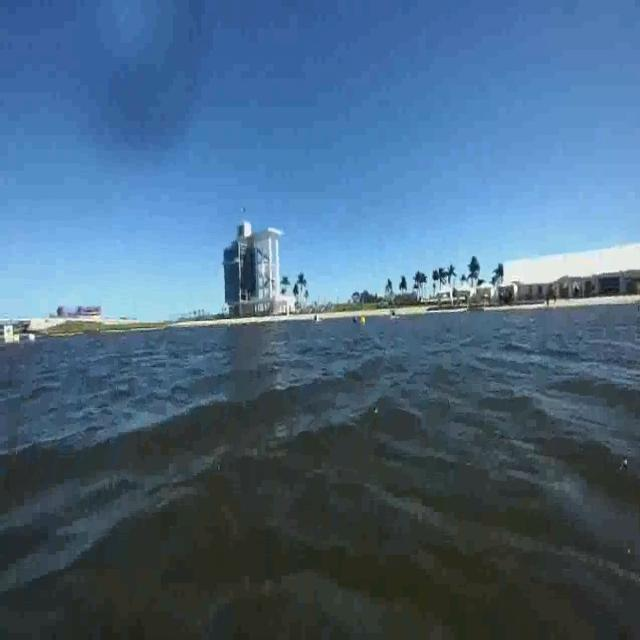yellow-buoy: (360, 314, 366, 326)
